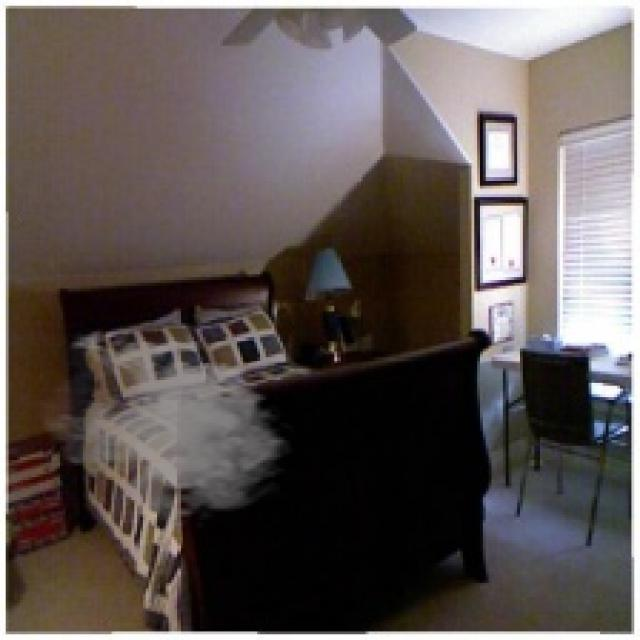smoke: (34, 326, 294, 531)
